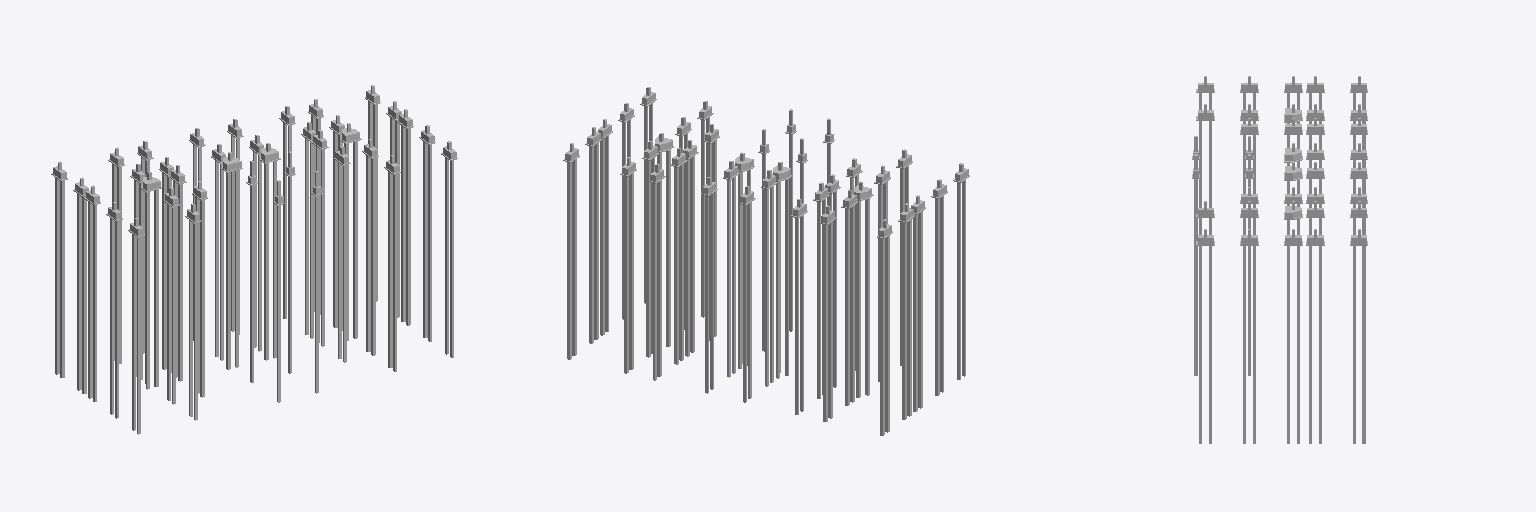
Rendered from He mong.obj.
The picture shows the model from 3 angles: view 1: azimuth 30°, elevation 25°; view 2: azimuth 150°, elevation 25°; view 3: azimuth 270°, elevation 25°; orthographic projection.
Parts seen in each view (by area): view 1: Mesh16 Mong_3_coc1 Model, Mesh21 Mong_3_coc2 Model, Mesh56 Mong_2_coc12 Model, Mesh80 Mong_2_coc18 Model, Mesh132 Mong_3_coc4 Model, Mesh140 Mong_2_coc29 Model, Mesh121 Mong_3_coc3 Model, Mesh6 Mong_2_coc2 Model, Mesh40 Mong_2_coc8 Model, Mesh141 Mong_2_coc29 Model, Mesh41 Mong_2_coc8 Model, Mesh57 Mong_2_coc12 Model (+28 smaller); view 2: Mesh41 Mong_2_coc8 Model, Mesh45 Mong_2_coc9 Model, Mesh73 Mong_2_coc16 Model, Mesh89 Mong_2_coc20 Model, Mesh109 Mong_2_coc25 Model, Mesh113 Mong_2_coc26 Model, Mesh126 Mong_2_coc28 Model, Mesh81 Mong_2_coc18 Model, Mesh93 Mong_2_coc21 Model, Mesh57 Mong_2_coc12 Model, Mesh122 Mong_3_coc3 Model, Mesh133 Mong_3_coc4 Model (+28 smaller); view 3: Mesh73 Mong_2_coc16 Model, Mesh144 Mong_1_coc4 Model, Mesh48 Mong_2_coc10 Model, Mesh49 Mong_2_coc10 Model, Mesh56 Mong_2_coc12 Model, Mesh57 Mong_2_coc12 Model, Mesh72 Mong_2_coc16 Model, Mesh112 Mong_2_coc26 Model, Mesh113 Mong_2_coc26 Model, Mesh146 Mong_2_coc30 Model, Mesh147 Mong_2_coc30 Model.
Boxes of the visible parts, box(x1,y1,x2,y2) form: Mesh16 Mong_3_coc1 Model: box(264, 163, 268, 360); Mesh21 Mong_3_coc2 Model: box(226, 172, 230, 369); Mesh56 Mong_2_coc12 Model: box(406, 128, 410, 325); Mesh80 Mong_2_coc18 Model: box(60, 181, 64, 377); Mesh132 Mong_3_coc4 Model: box(353, 141, 357, 338); Mesh140 Mong_2_coc29 Model: box(371, 158, 375, 355); Mesh121 Mong_3_coc3 Model: box(154, 190, 158, 386); Mesh6 Mong_2_coc2 Model: box(200, 200, 204, 397); Mesh40 Mong_2_coc8 Model: box(82, 197, 86, 393); Mesh141 Mong_2_coc29 Model: box(366, 155, 370, 351); Mesh41 Mong_2_coc8 Model: box(77, 194, 81, 390); Mesh57 Mong_2_coc12 Model: box(401, 125, 405, 321); Mesh41 Mong_2_coc8 Model: box(902, 222, 906, 419); Mesh45 Mong_2_coc9 Model: box(674, 167, 678, 364); Mesh73 Mong_2_coc16 Model: box(567, 162, 571, 359); Mesh89 Mong_2_coc20 Model: box(624, 176, 628, 373); Mesh109 Mong_2_coc25 Model: box(823, 225, 827, 421); Mesh113 Mong_2_coc26 Model: box(589, 146, 593, 343); Mesh126 Mong_2_coc28 Model: box(935, 198, 939, 395); Mesh81 Mong_2_coc18 Model: box(880, 239, 884, 435); Mesh93 Mong_2_coc21 Model: box(845, 209, 849, 405); Mesh57 Mong_2_coc12 Model: box(600, 138, 604, 335); Mesh122 Mong_3_coc3 Model: box(865, 199, 869, 395); Mesh133 Mong_3_coc4 Model: box(666, 150, 670, 346); Mesh73 Mong_2_coc16 Model: box(1362, 246, 1365, 443); Mesh144 Mong_1_coc4 Model: box(1194, 179, 1197, 375); Mesh48 Mong_2_coc10 Model: box(1199, 246, 1201, 443); Mesh49 Mong_2_coc10 Model: box(1209, 246, 1211, 443); Mesh56 Mong_2_coc12 Model: box(1287, 246, 1289, 443); Mesh57 Mong_2_coc12 Model: box(1297, 246, 1299, 443); Mesh72 Mong_2_coc16 Model: box(1353, 246, 1355, 443); Mesh112 Mong_2_coc26 Model: box(1309, 246, 1311, 443); Mesh113 Mong_2_coc26 Model: box(1319, 246, 1321, 443); Mesh146 Mong_2_coc30 Model: box(1243, 246, 1245, 443); Mesh147 Mong_2_coc30 Model: box(1253, 246, 1255, 443).
Size of the model in its own units: 33800 by 22250 by 16150.